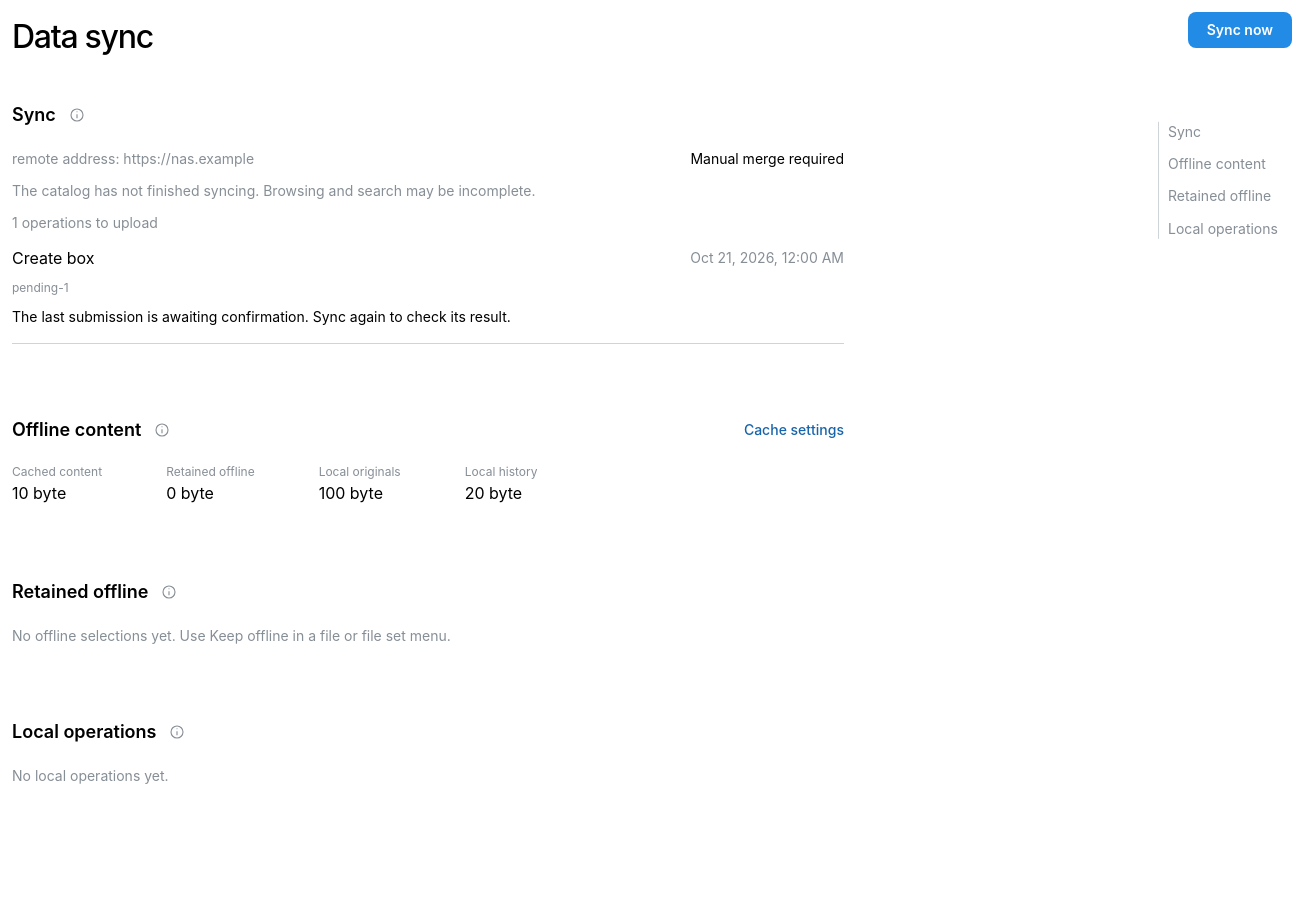
Test: retains a pending change after a failed sync
The width and height of the screenshot is (1304, 912).
Click the button "Sync now": coordinates (1240, 30) [1188,12,1292,48]
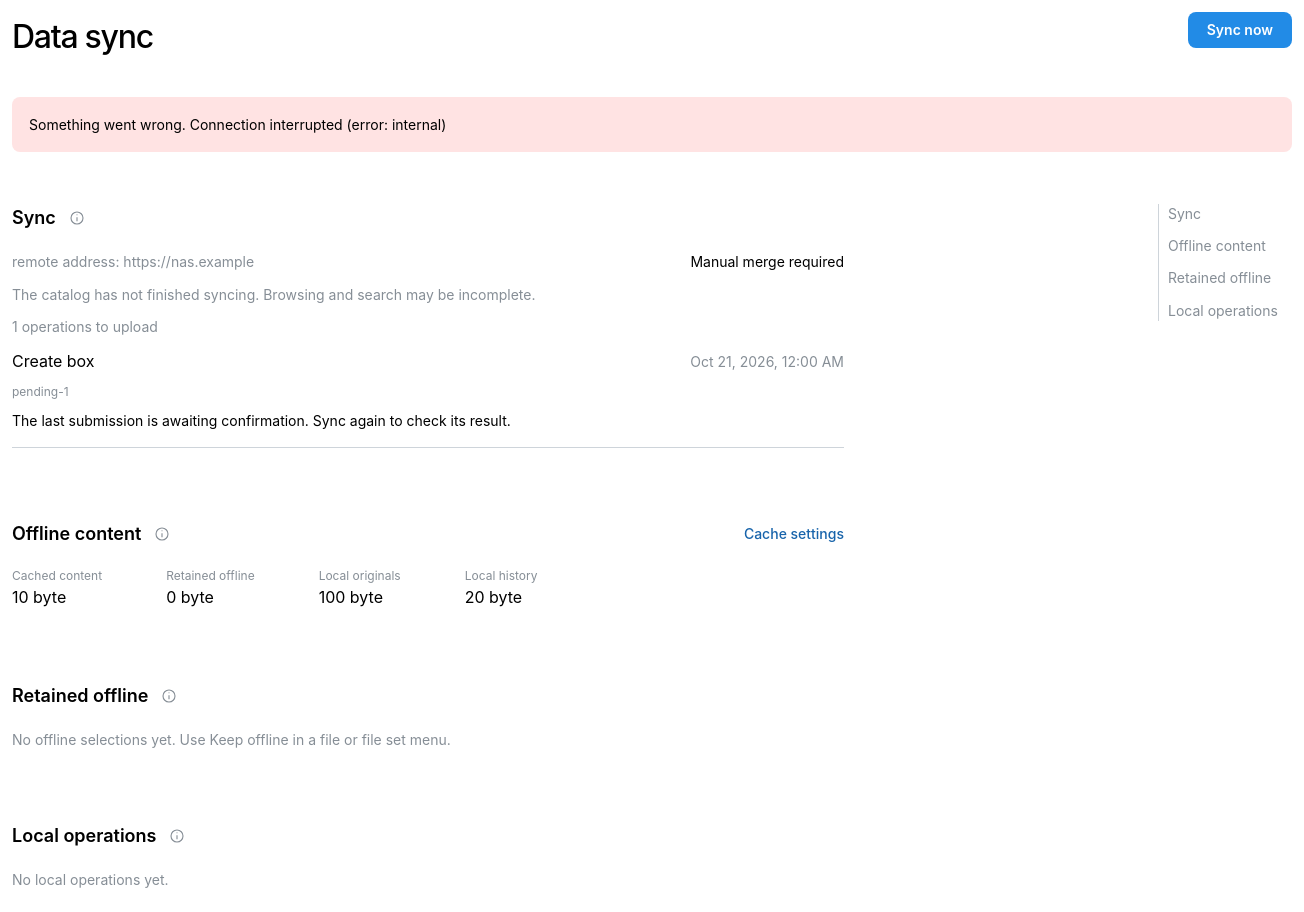
Expected: the text "pending-1" is shown, [12,384,68,399]
Expected: the text "Connection interrupted" is shown, [29,116,446,133]
